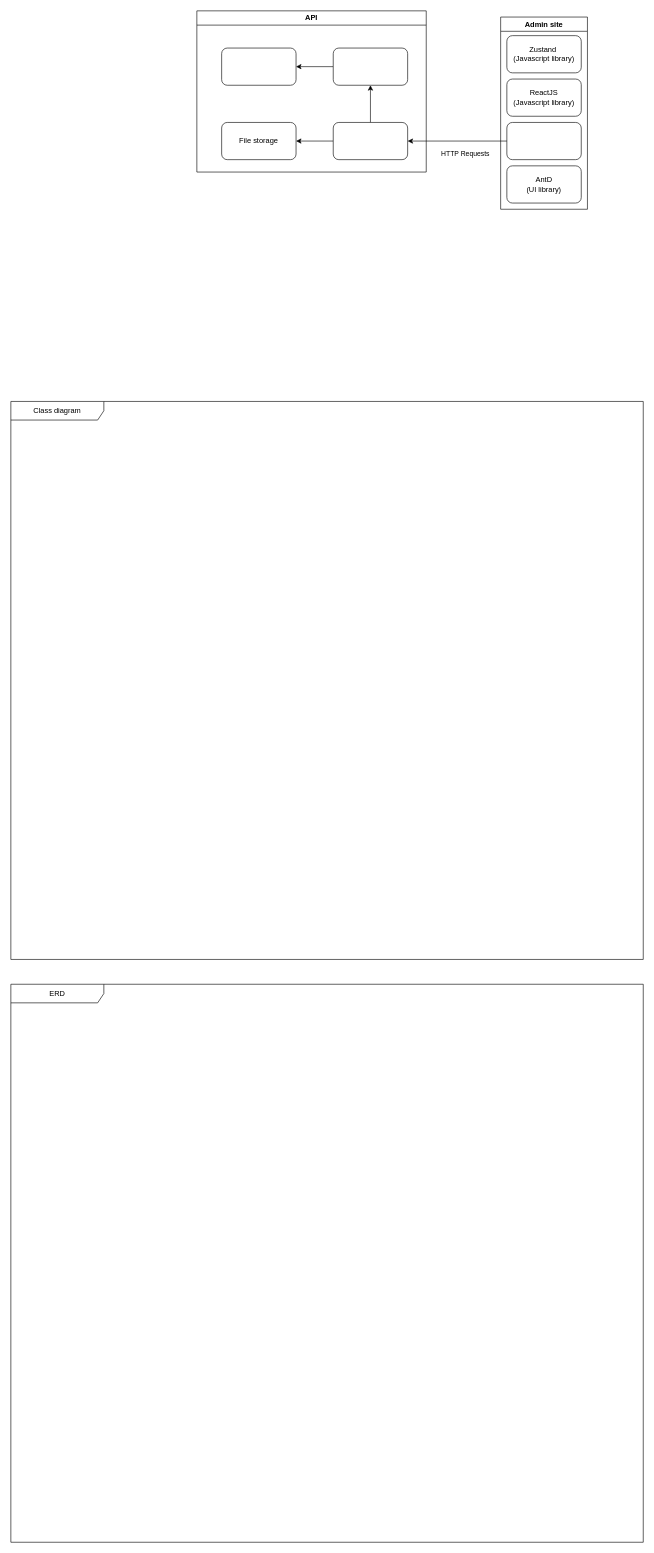
Some shapes in this 654 by 1553 pixel diagram are drawn without their labels. The shapes that lost their labels are listed below. From the top down, each one's centre as x and y in pixels, then its label:
At [258,66]: "MySQL".
At [370,66]: "SQLAlchemy (Python framework)".
At [370,141]: "FastAPI (Python framework)".
At [543,141]: "Axios (Javascript library)".
